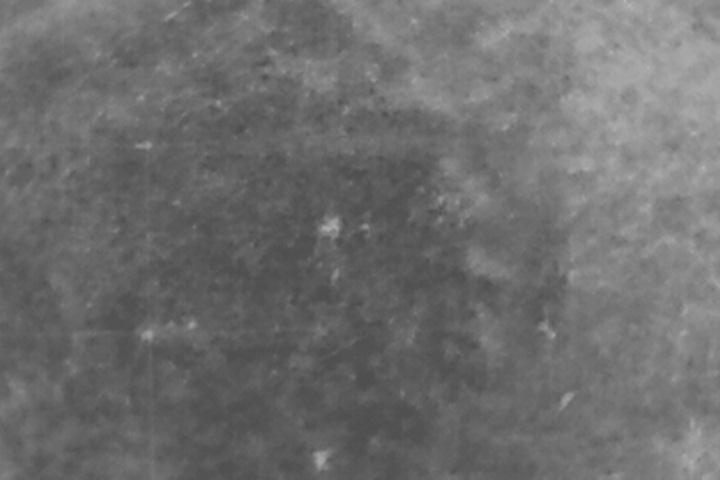landmine: (320, 216, 343, 239), (313, 449, 331, 471)
